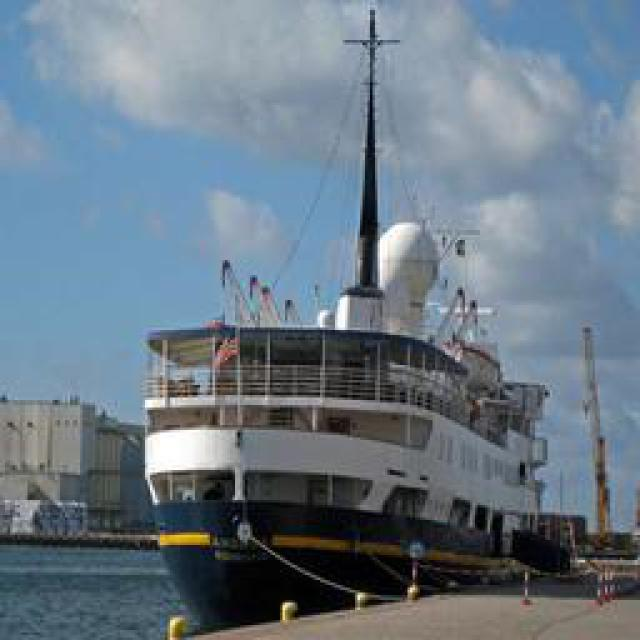Ship: (144, 76, 617, 611)
